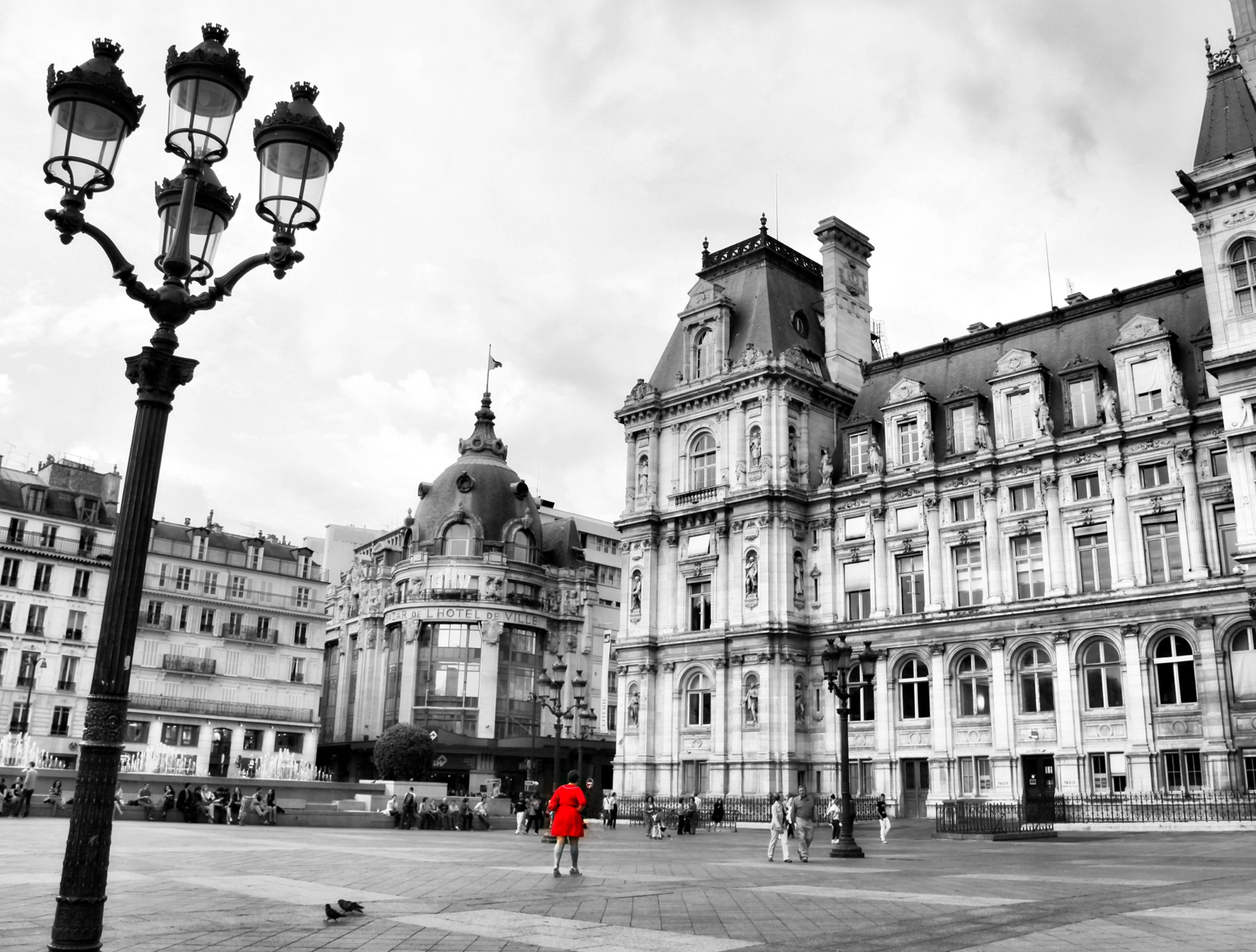fachada: (644, 18, 1256, 843), (335, 333, 628, 804), (8, 448, 348, 825)
poste: (26, 0, 317, 952), (832, 636, 890, 861)
